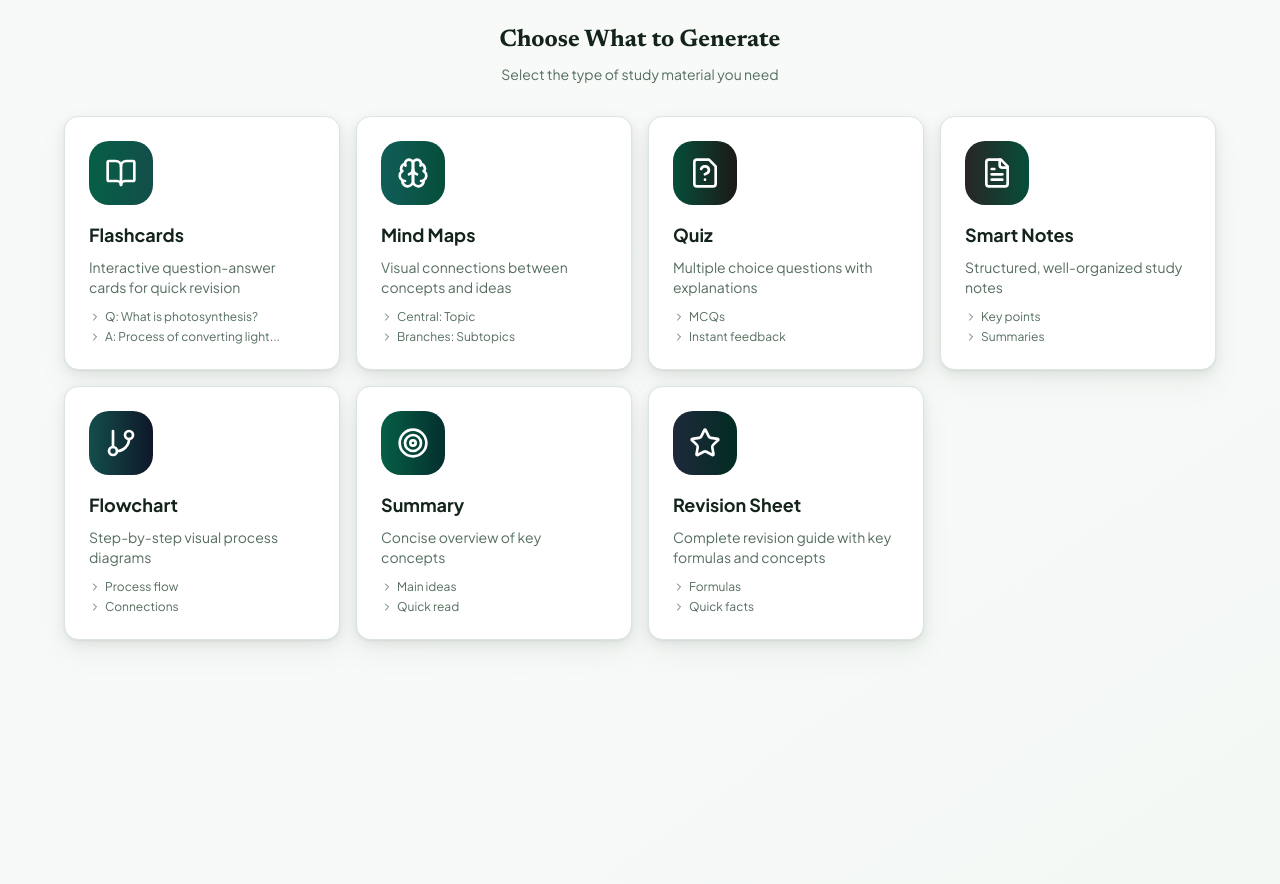
Test case: AI Study Material Generator - Dual Source Modes & Grounded Retrieval › 3. Can select an individual resource or multiple resources, and provide an optional focused topic
Step 1. Click the heading "Flashcards" → (136,234), box [89,223,184,246]
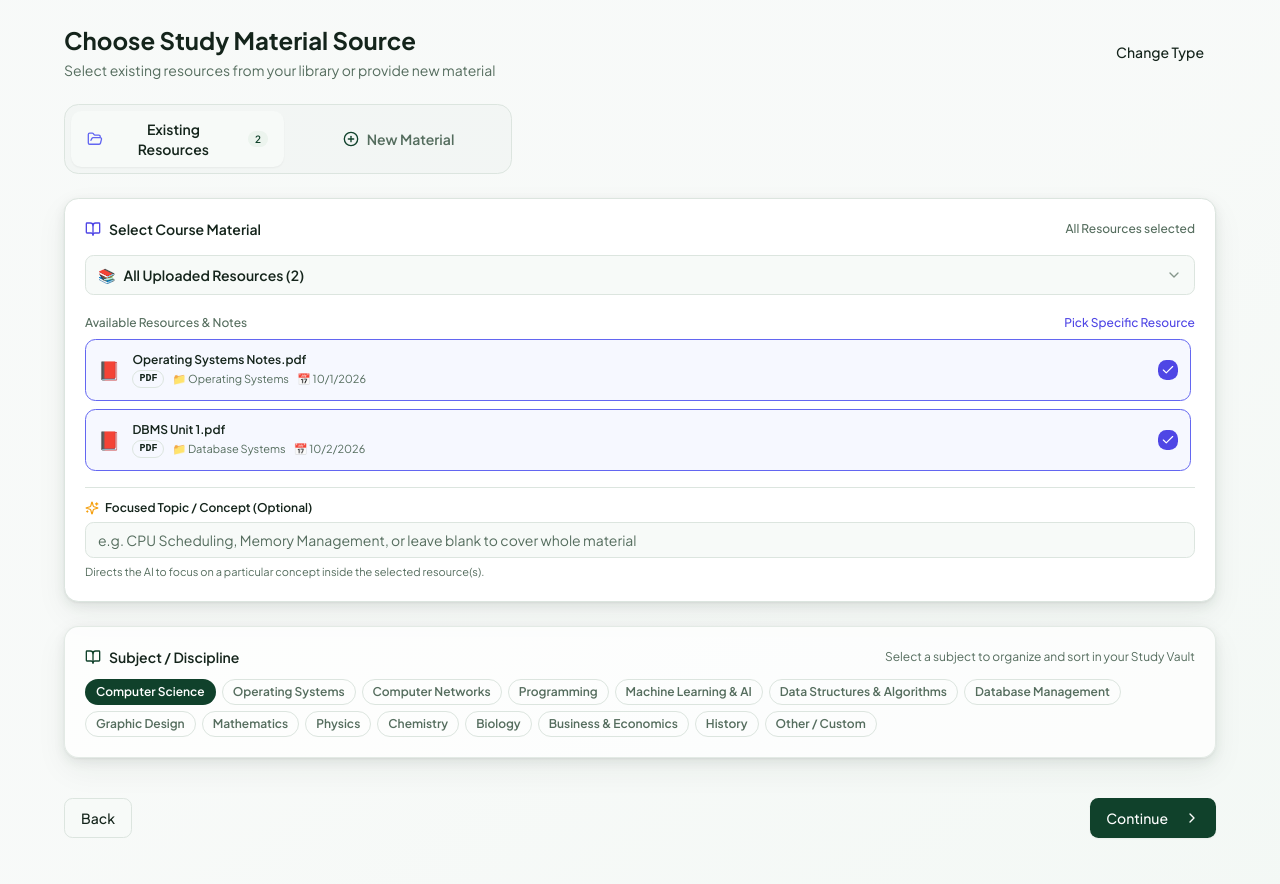
Expected: the text "Operating Systems Notes.pdf" is shown, [132,352,306,367]
# Click on Operating Systems Notes.pdf to toggle/select
Step 2. Click the text "Operating Systems Notes.pdf" → (249,370), box [132,352,366,388]
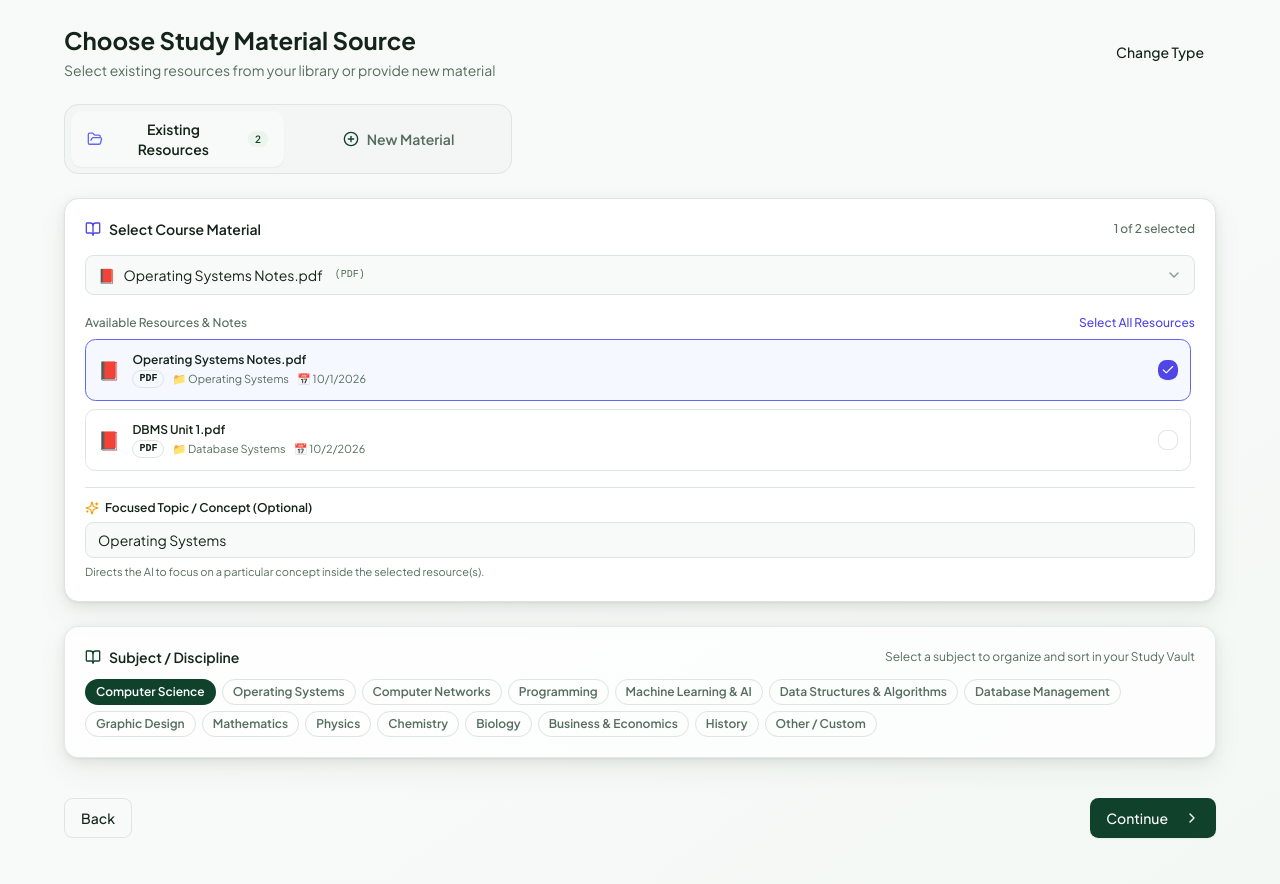
# Enter an optional topic
Step 3. Replace the text in the field with placeholder "e.g. CPU Scheduling, Memory Management" with "CPU Scheduling" → (640,540), box [85,522,1195,558]
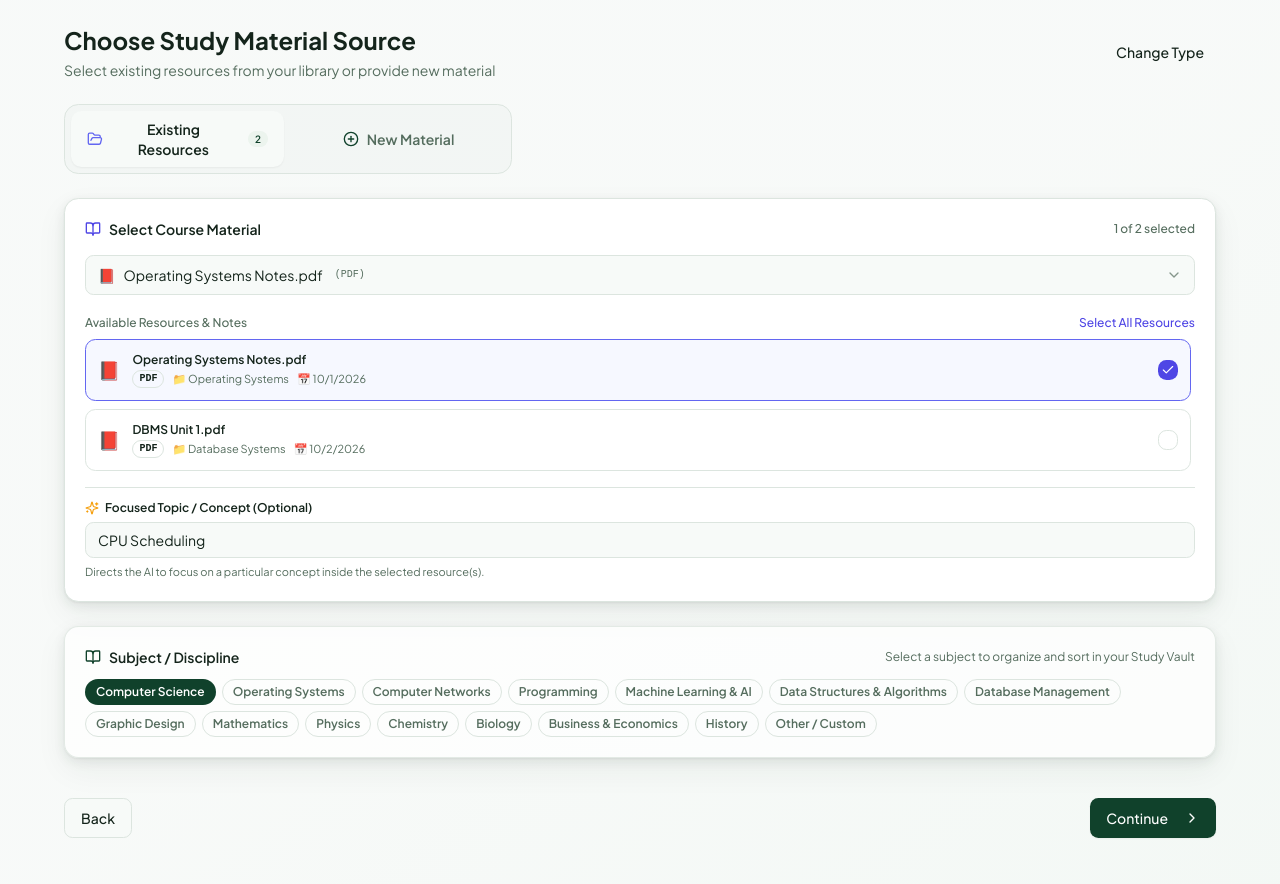
Expected: the button "Continue" is enabled
Step 4. Click the button "Continue" → (1153,818), box [1090,798,1216,838]
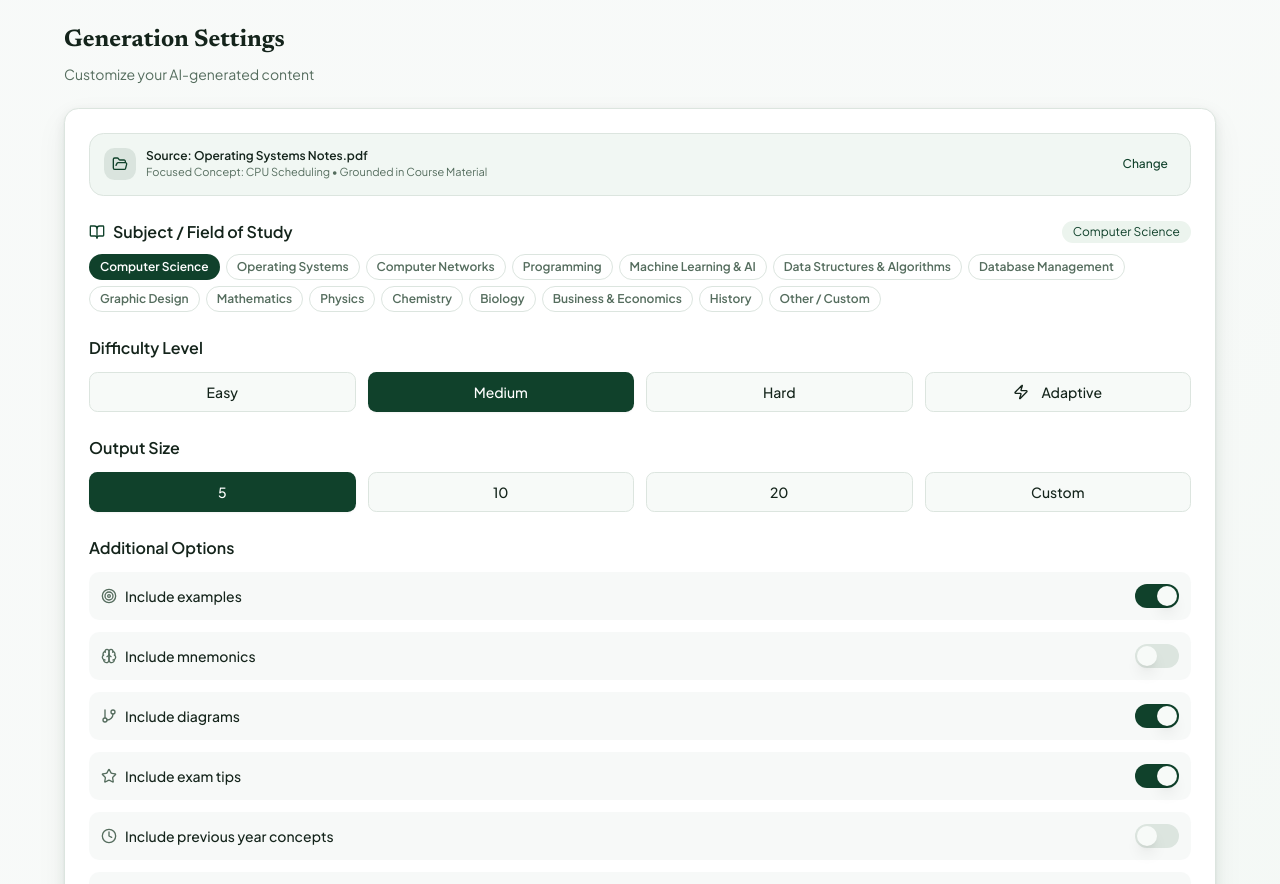
Expected: the heading "Generation Settings" is shown, [64,28,285,52]
Expected: the text "Grounded in Course Material" is shown, [146,165,487,178]
